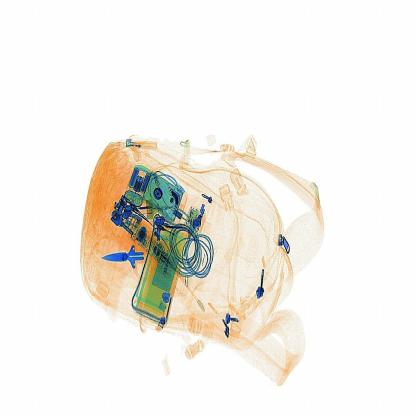gun: (95, 240, 165, 284)
